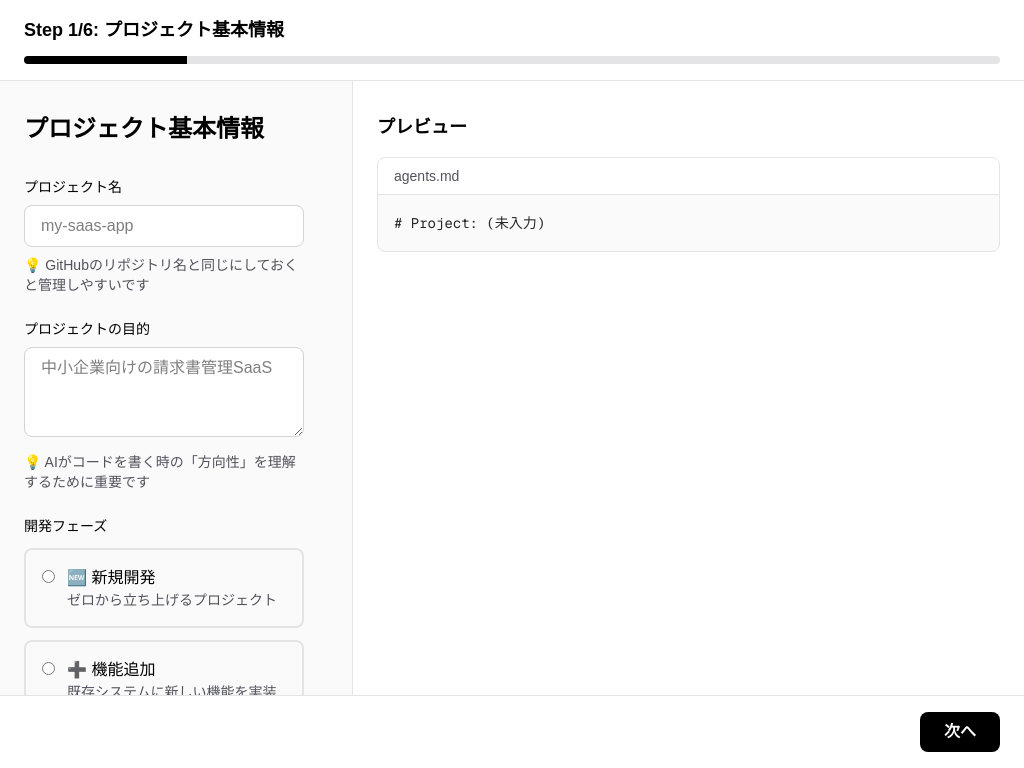
Wizard Page › Preview Area › updates preview when project purpose is entered
The image size is (1024, 768).
Step 1. Type "素晴らしいプロジェクト" into the text box labelled "プロジェクトの目的" → (164, 392), box left=24, top=347, right=304, bottom=437
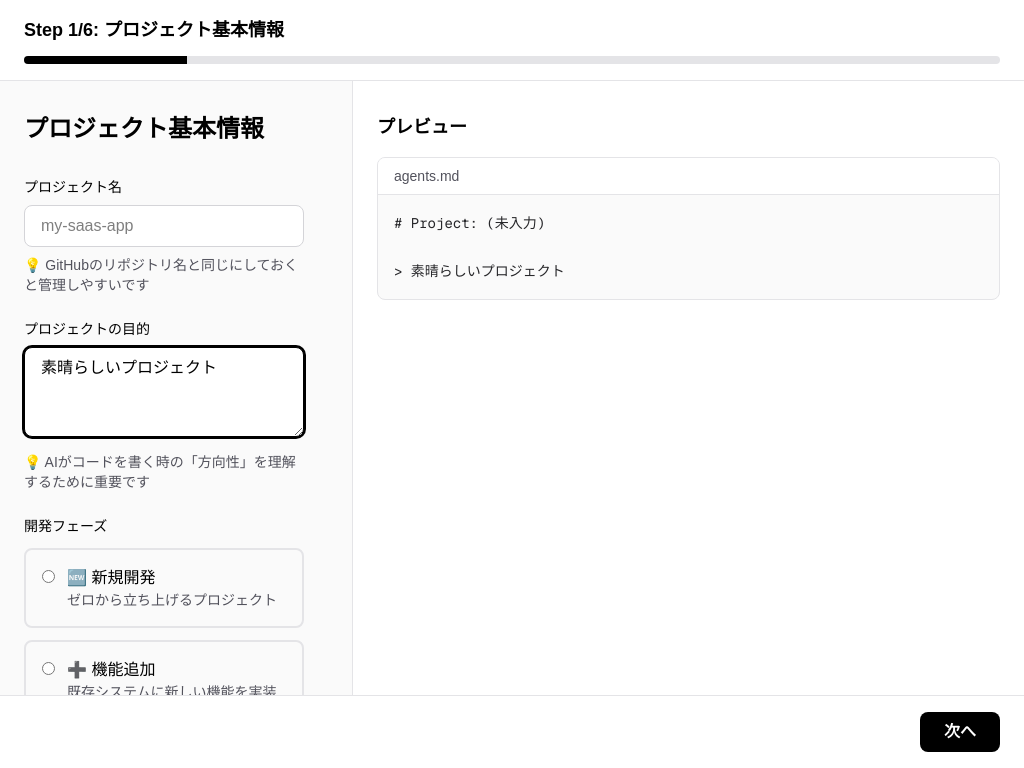
Result: the text "# Project: (未入力) > 素晴らしいプロジェクト" is shown at left=394, top=214, right=565, bottom=280
